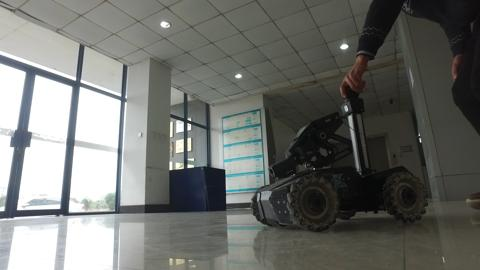chariot: (242, 81, 438, 239)
